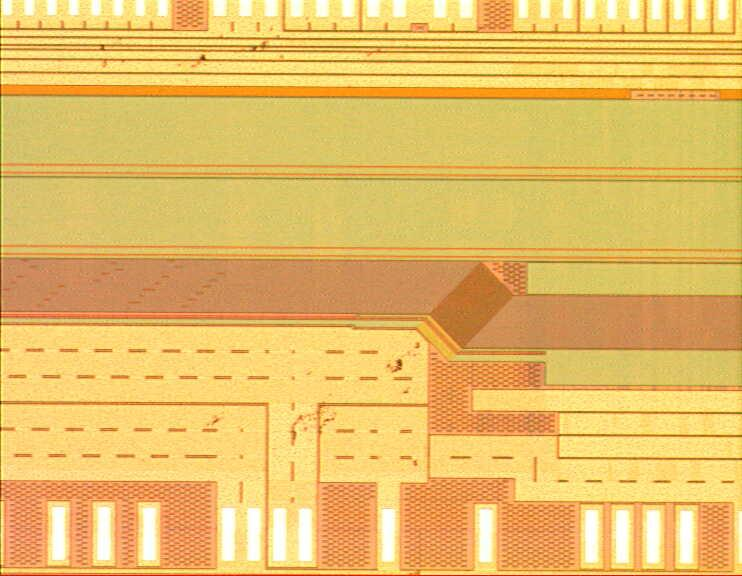PIQ PARTICLE: (176, 28, 433, 443)
